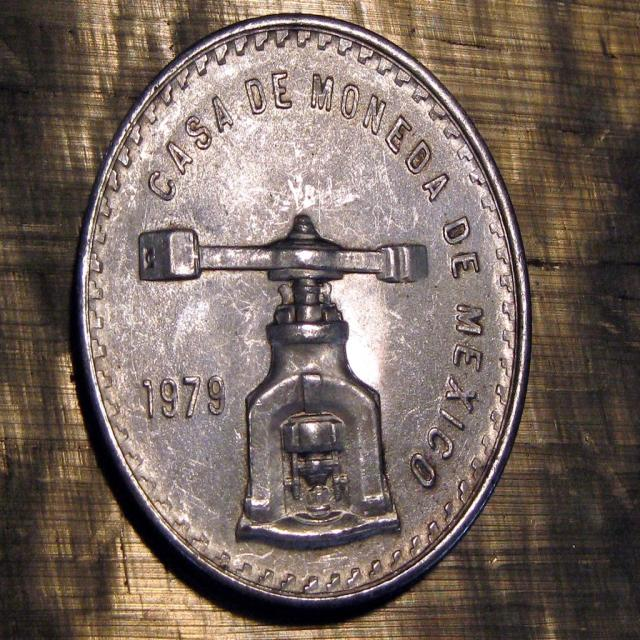Coin: (80, 13, 535, 604)
